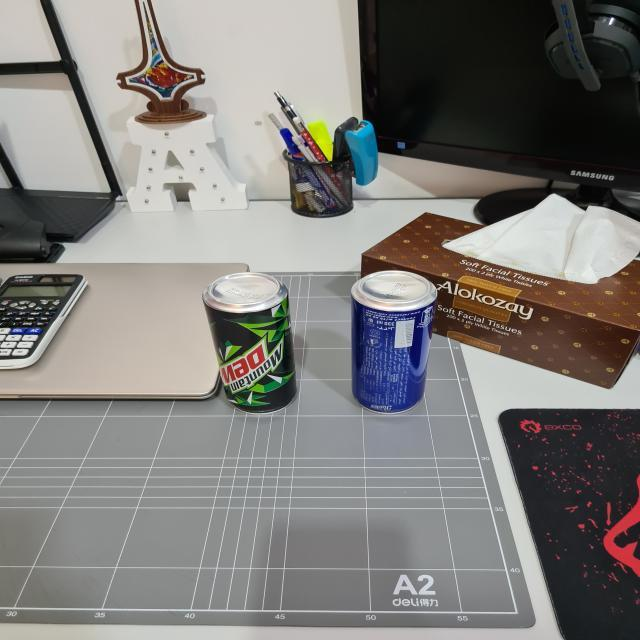can: (204, 270, 304, 420), (344, 266, 436, 416)
